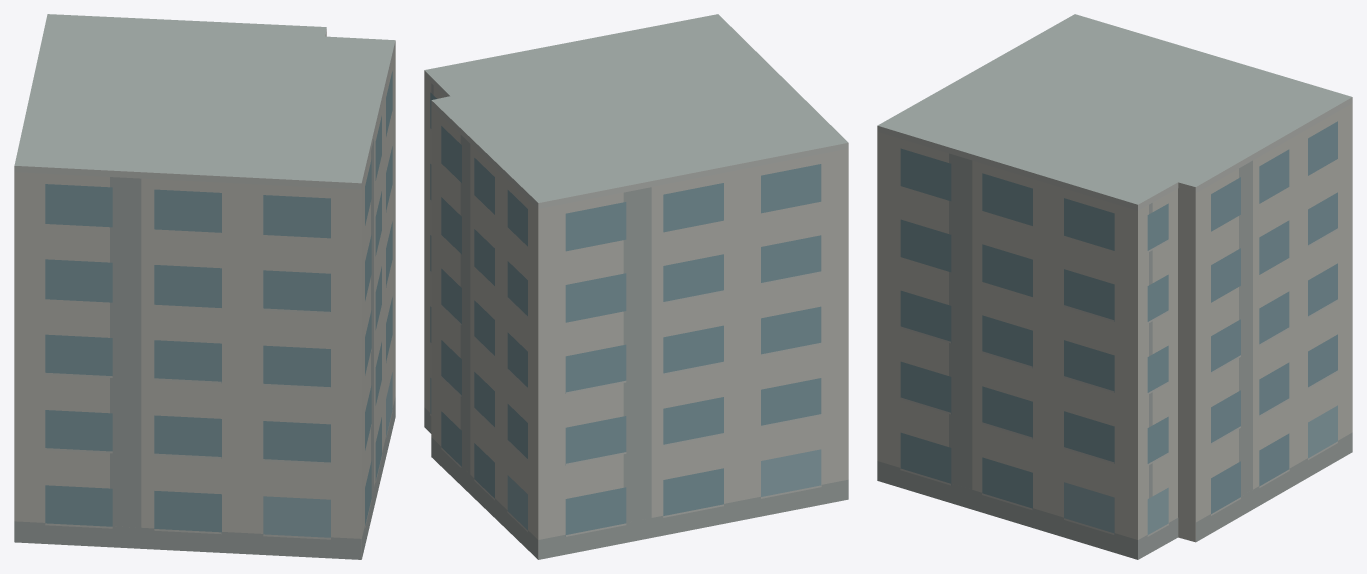
The model's file is survey-upis-32826141.glb.
3 renders of one model, left to right at view 1: azimuth 30°, elevation 25°; view 2: azimuth 150°, elevation 25°; view 3: azimuth 270°, elevation 25°, orthographic. The views are drawn at different scales.
Parts seen in each view (by area): view 1: survey-upis-32826141.tmp; view 2: survey-upis-32826141.tmp; view 3: survey-upis-32826141.tmp.
Boxes of the visible parts, box(x1,y1,x2,y2) form: survey-upis-32826141.tmp: box(14, 14, 395, 559); survey-upis-32826141.tmp: box(424, 14, 848, 559); survey-upis-32826141.tmp: box(877, 14, 1352, 559).
Bounding box in the file's own units: 16.54 × 14.35 × 17.41.
